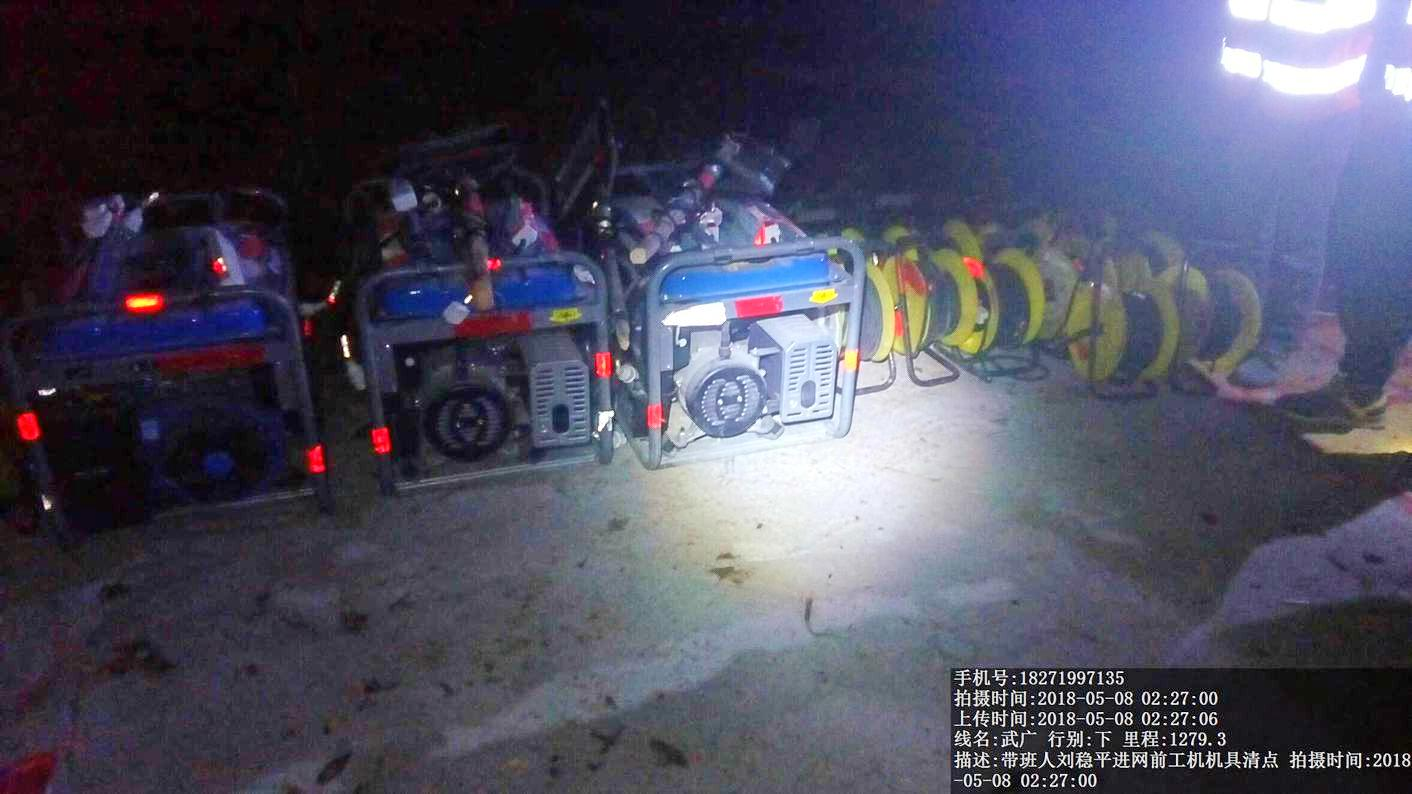DJ: (308, 187, 613, 484), (596, 197, 874, 461)
DX: (1056, 276, 1181, 399), (953, 252, 1053, 370), (1168, 272, 1261, 378)
